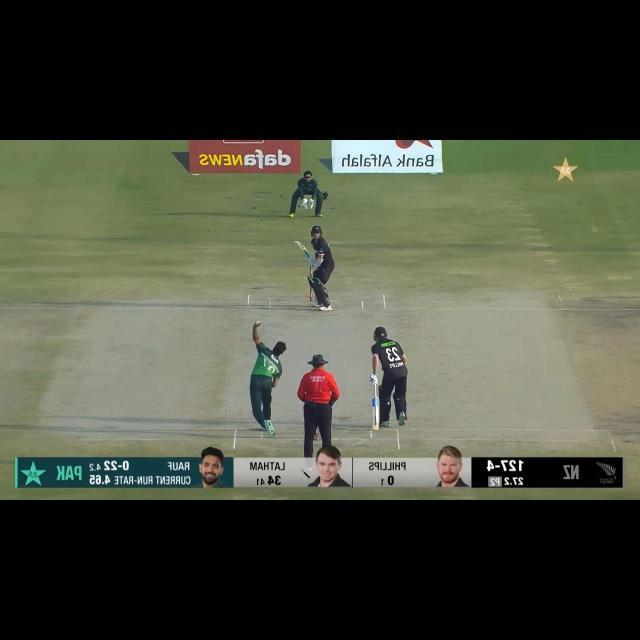bat: (369, 397, 382, 431), (293, 240, 313, 261)
toe: (369, 420, 381, 430), (292, 240, 304, 247)
